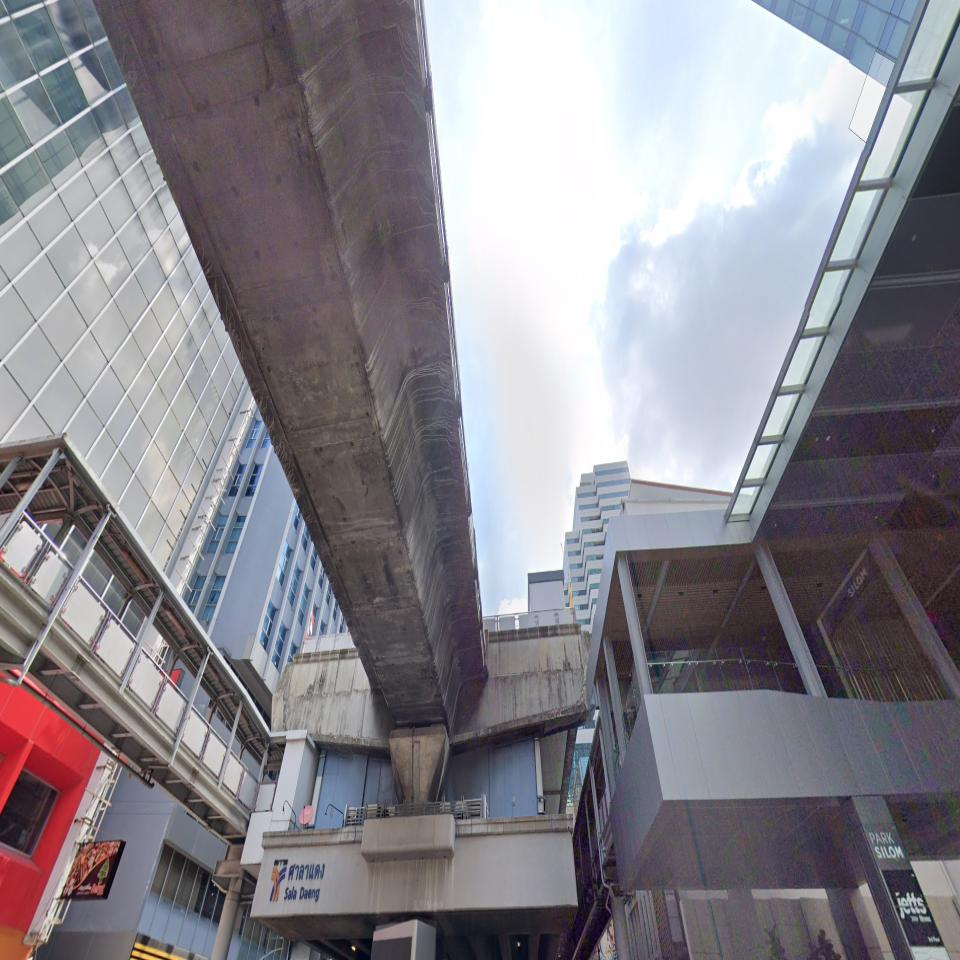signage: (269, 858, 327, 904), (284, 862, 326, 904)
